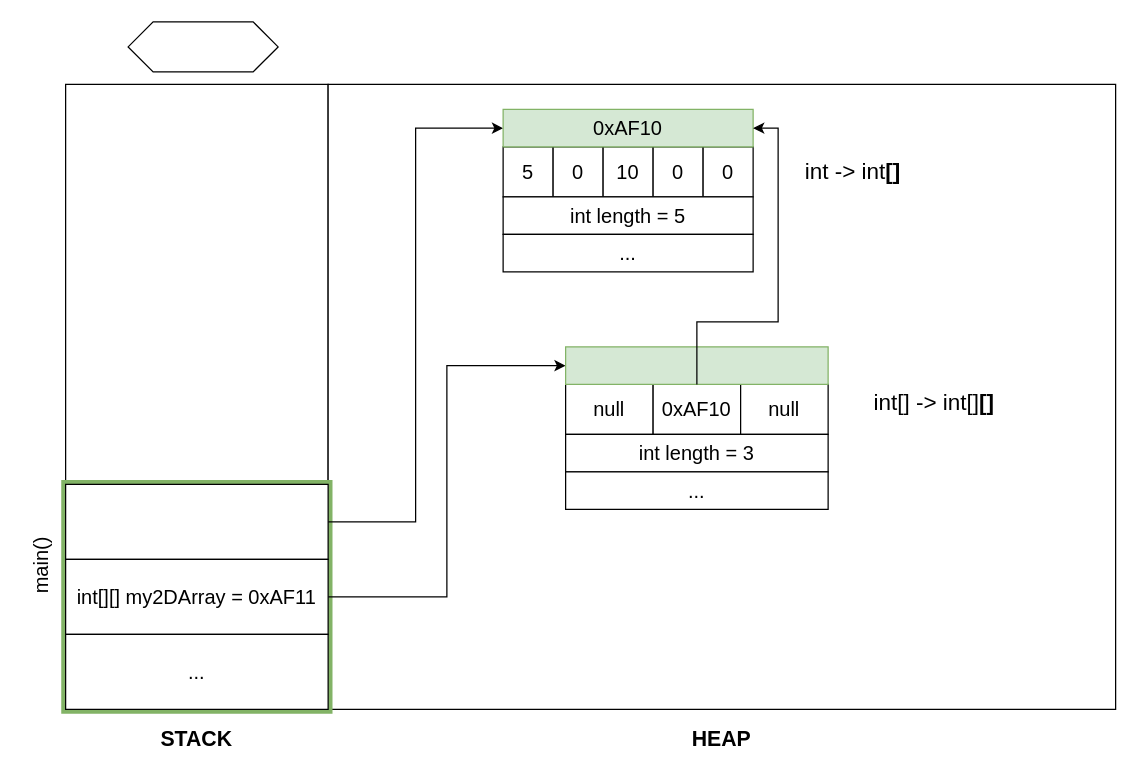
The diagram is 1138 pixels wide and 781 high, and some of its shapes have lost their labels. The shapes that lost their labels are listed below. From the top down, each one's centre as x and y in pixels, then its label:
At point (202, 46): "main thread".
At point (696, 365): "0xAF11".
At point (196, 521): "int[] my1DArray = 0xAF10".
